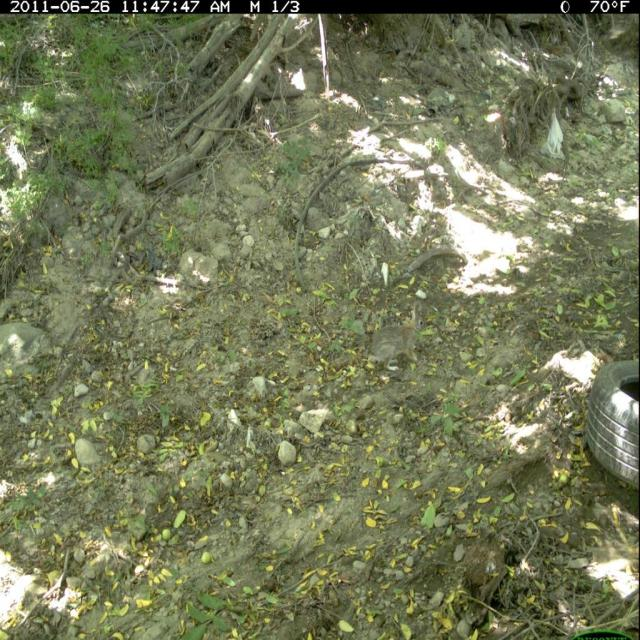rabbit: (368, 301, 428, 377)
